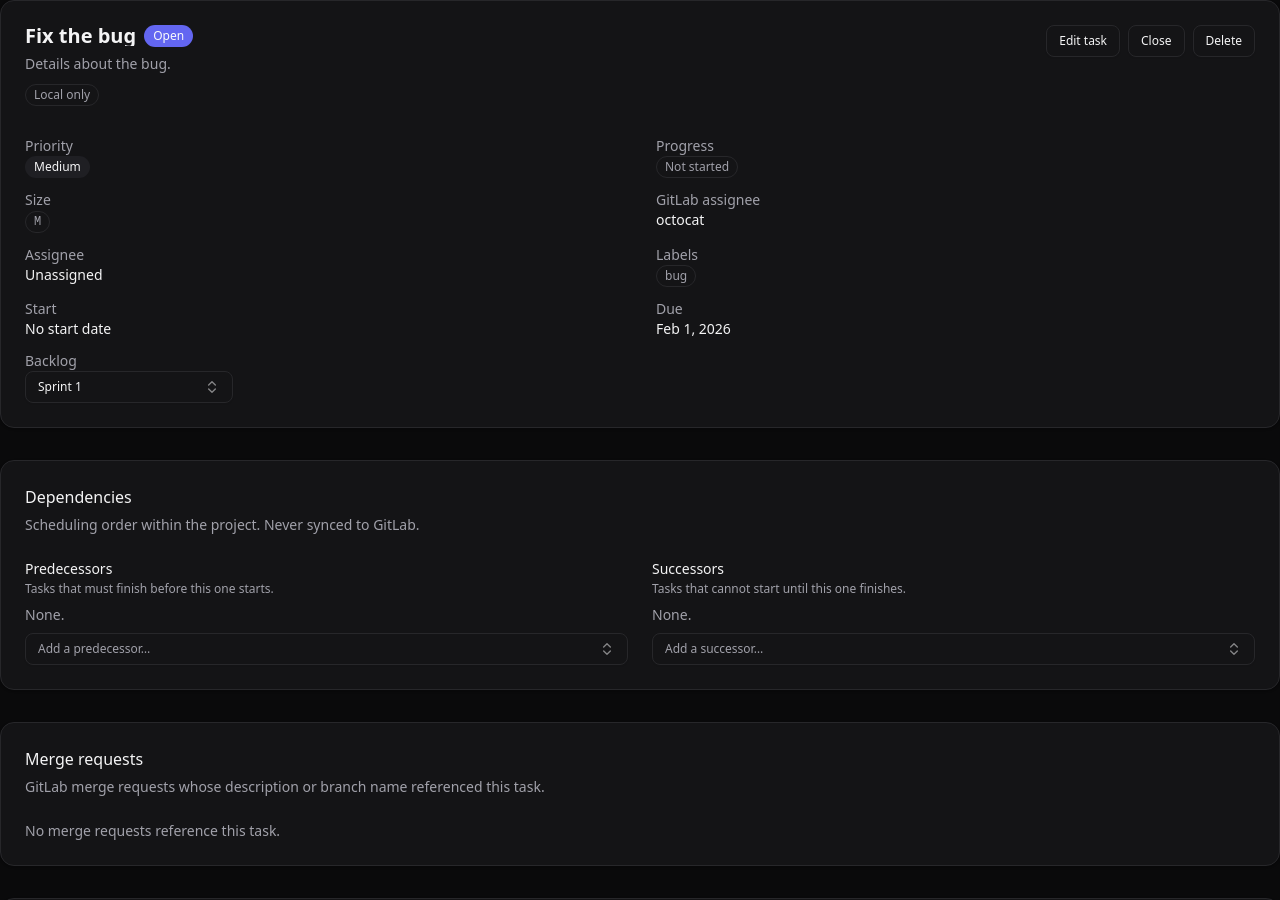
TaskDetail › shows an inline error when the delete fails
Click the button "Delete" at (1224,41), box [1192, 25, 1255, 57]
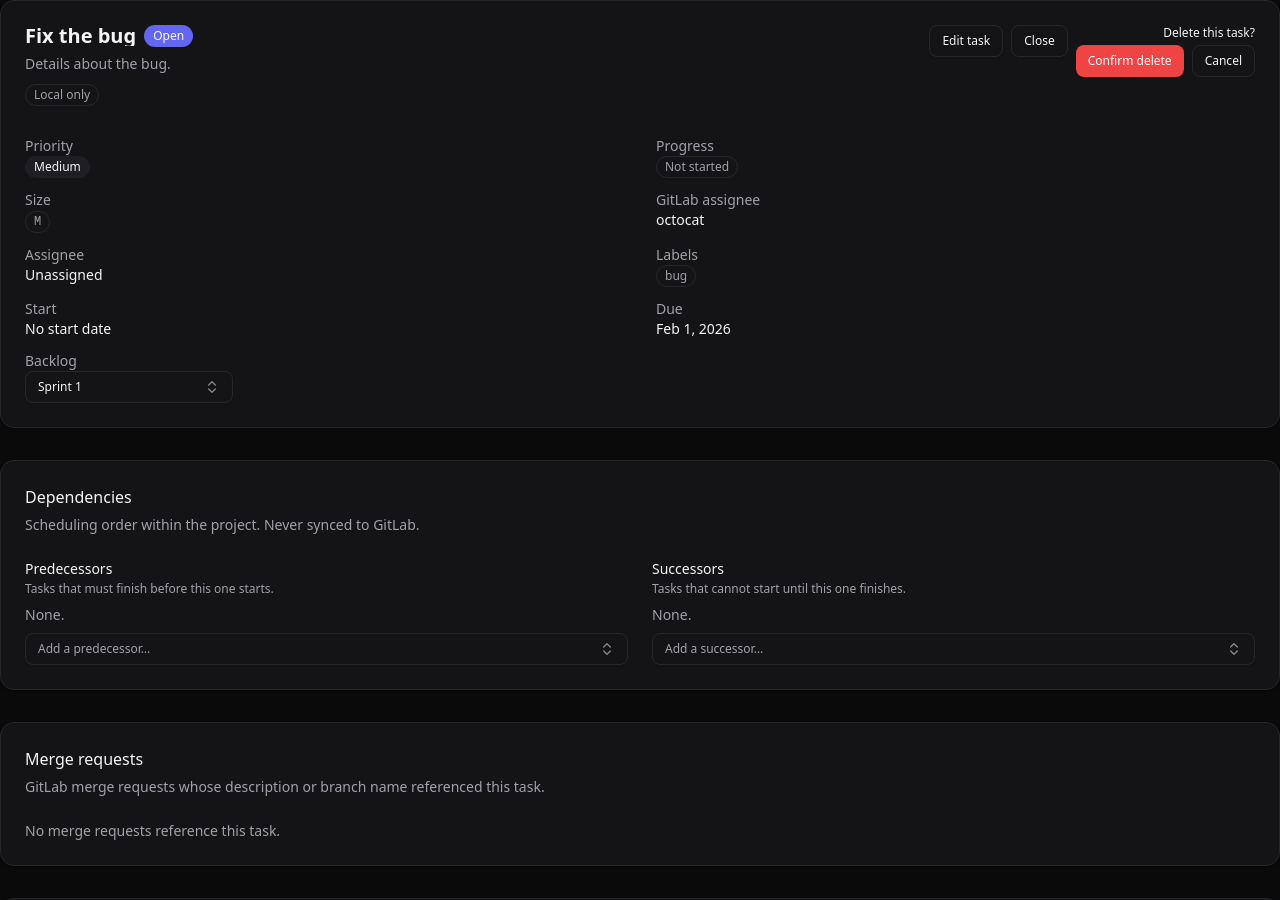
Click the button "Confirm delete" at (1130,61), box [1076, 45, 1184, 77]
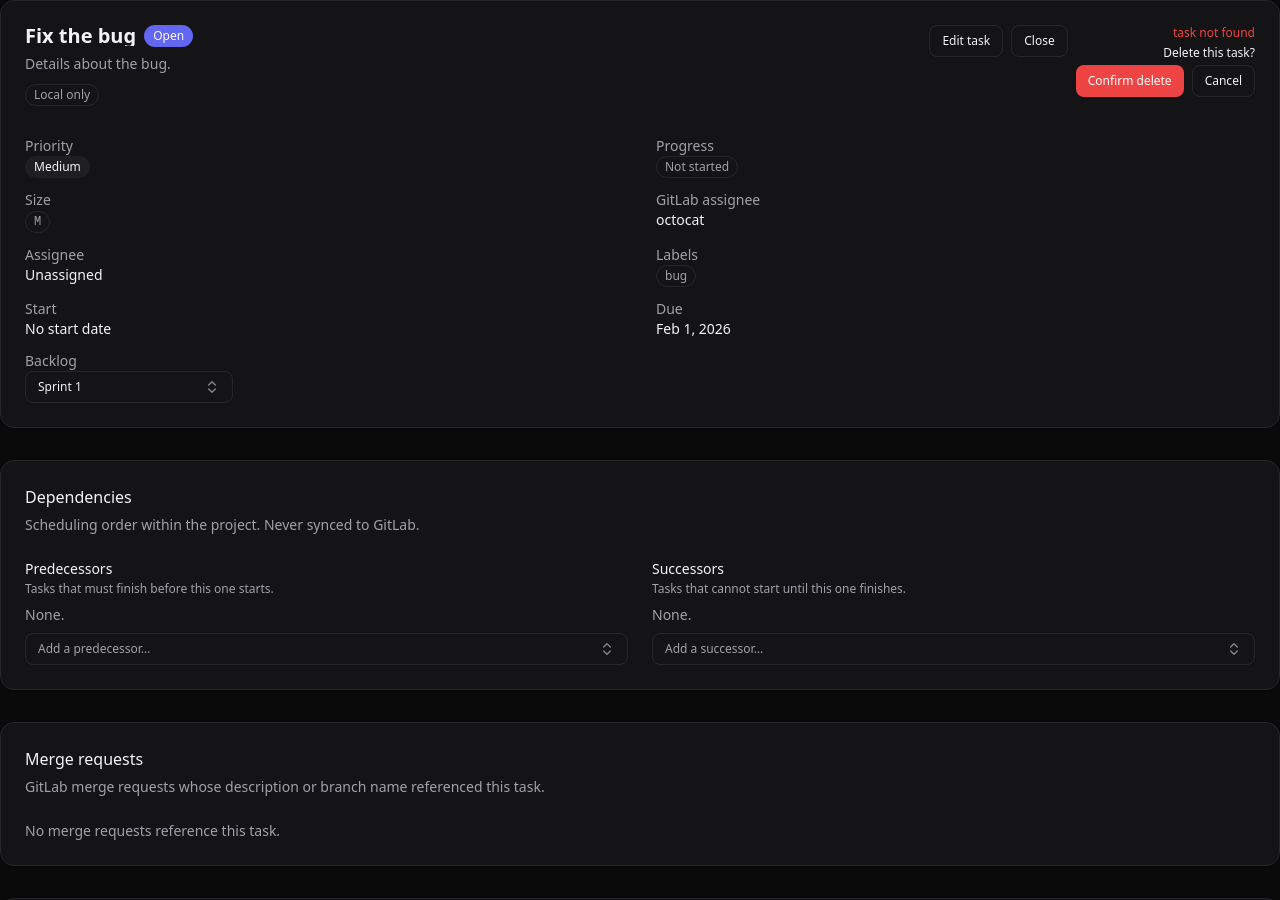
Now the text "task not found" is shown, box [1173, 25, 1255, 41]
